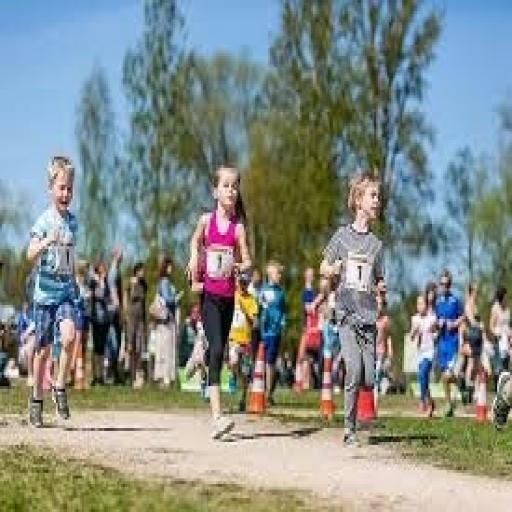running: (316, 170, 391, 450), (184, 160, 255, 442), (24, 151, 86, 431)
